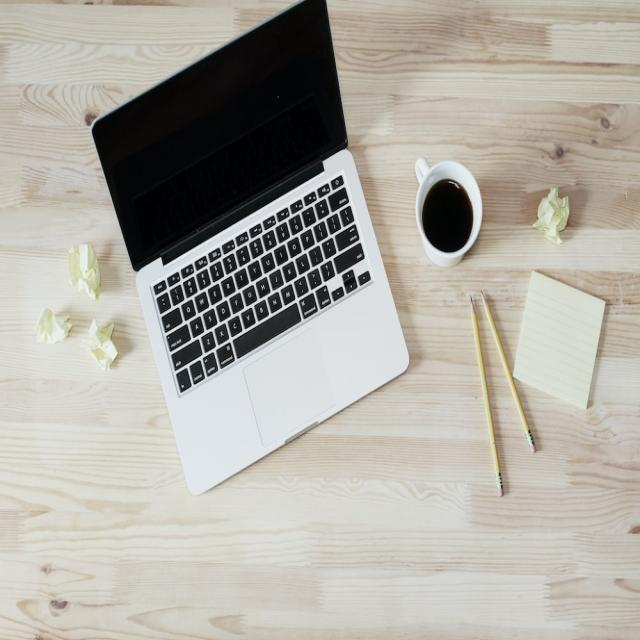keyboard: (144, 162, 408, 494)
